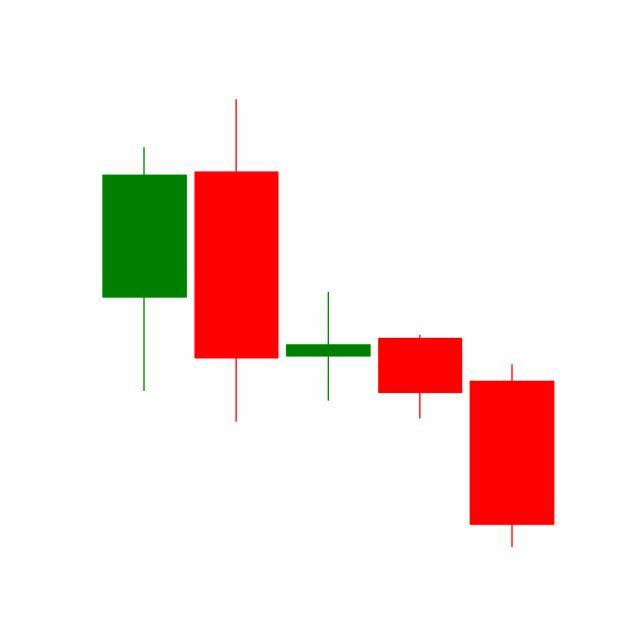Three Outside Up-Down: (280, 288, 555, 548)
